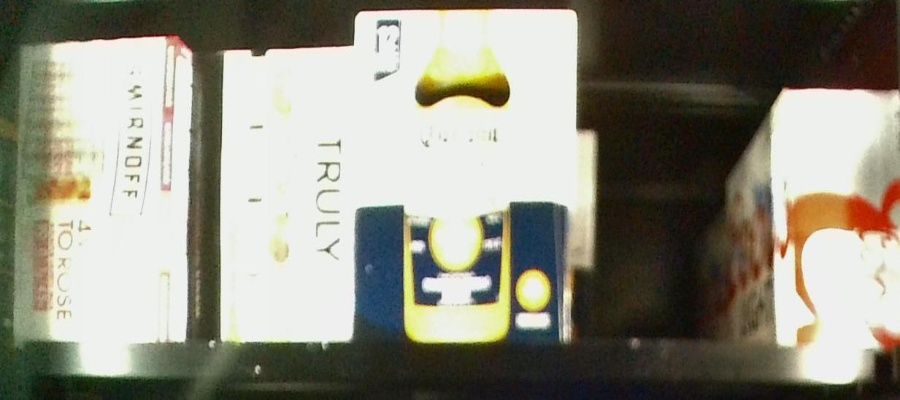bottle: (351, 7, 572, 338), (15, 34, 211, 343), (215, 48, 358, 341), (765, 83, 900, 348)
